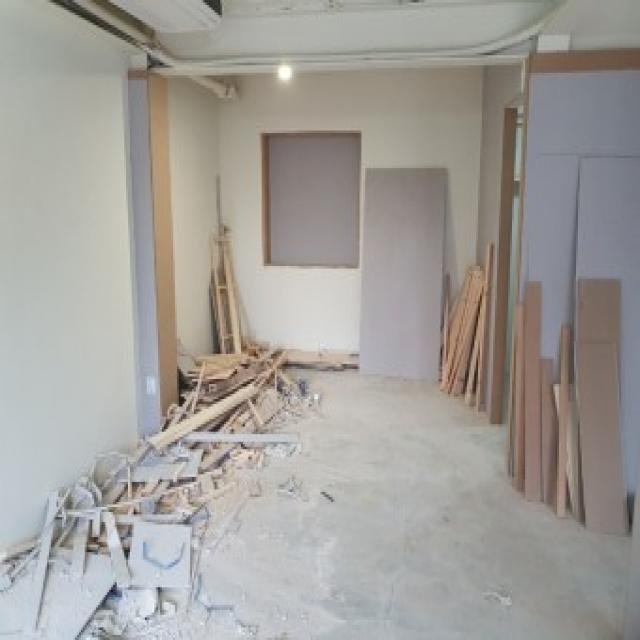board: (518, 70, 640, 300), (575, 155, 640, 494), (359, 168, 447, 384), (528, 154, 578, 383), (575, 341, 630, 538), (578, 279, 622, 400), (524, 282, 542, 502), (542, 360, 554, 503)
wood: (476, 241, 494, 412), (558, 325, 571, 517)
